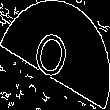O_SW: (32, 22, 78, 88)
